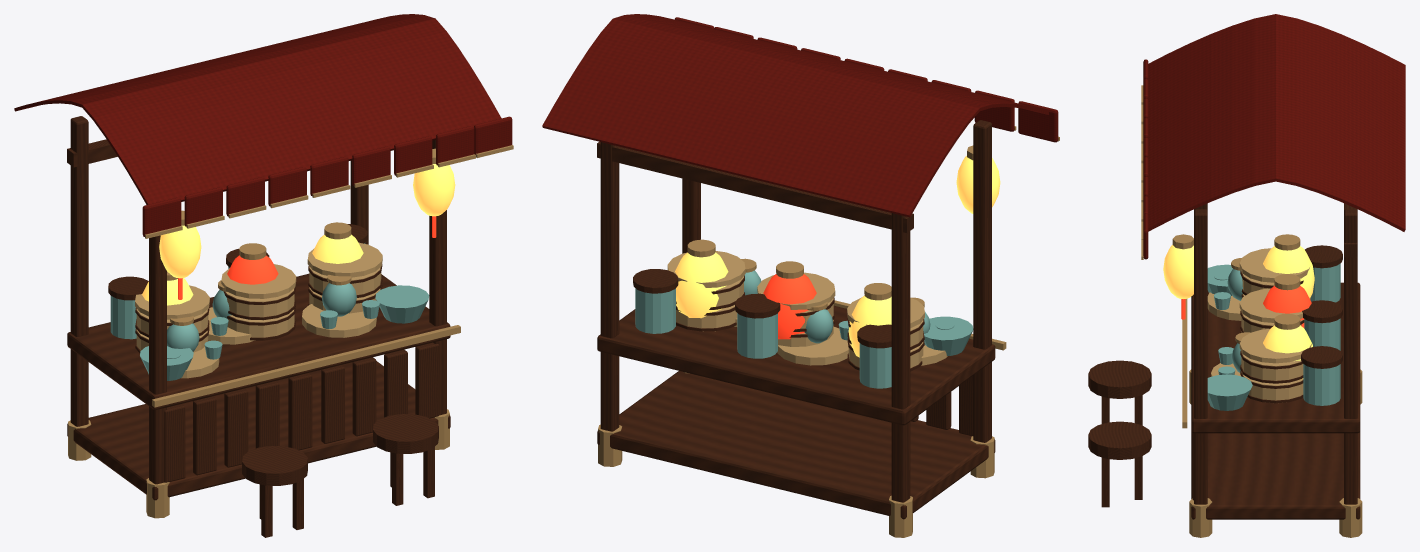
The model's file is night-market-kit-v021.glb.
3 renders of one model, left to right at view 1: azimuth 30°, elevation 25°; view 2: azimuth 150°, elevation 25°; view 3: azimuth 270°, elevation 25°, orthographic. The views are drawn at different scales.
Parts seen in each view (by area): view 1: Market_Food_Market_Canvas_Cinnabar, Market_Food_Market_Walnut, Market_Food_Market_Bamboo, Market_Lantern_Market_Walnut, Market_Food_Market_BrushedBrass, Market_Tea_Market_Celadon, Market_Food_Market_WarmPaper, Market_Tea_Market_Bamboo, Market_Lantern_Market_WarmPaper, Market_Food_Market_Celadon, Market_Lantern_Market_RedPaper, Market_Tea_Market_Walnut (+1 smaller); view 2: Market_Food_Market_Walnut, Market_Food_Market_Canvas_Cinnabar, Market_Tea_Market_Celadon, Market_Food_Market_Bamboo, Market_Lantern_Market_WarmPaper, Market_Tea_Market_Walnut, Market_Food_Market_BrushedBrass, Market_Lantern_Market_RedPaper, Market_Tea_Market_Bamboo, Market_Food_Market_Celadon, Market_Lantern_Market_BrushedBrass, Market_Food_Market_WarmPaper; view 3: Market_Food_Market_Canvas_Cinnabar, Market_Food_Market_Walnut, Market_Lantern_Market_Walnut, Market_Food_Market_Bamboo, Market_Tea_Market_Celadon, Market_Lantern_Market_WarmPaper, Market_Food_Market_BrushedBrass, Market_Tea_Market_Walnut, Market_Food_Market_Celadon, Market_Lantern_Market_BrushedBrass, Market_Lantern_Market_RedPaper, Market_Food_Market_WarmPaper (+1 smaller).
Part boxes in pixels (bbox=[...]): Market_Food_Market_Canvas_Cinnabar: bbox=[14, 14, 512, 236]; Market_Food_Market_Walnut: bbox=[67, 116, 450, 500]; Market_Food_Market_Bamboo: bbox=[135, 242, 382, 352]; Market_Lantern_Market_Walnut: bbox=[242, 414, 438, 537]; Market_Food_Market_BrushedBrass: bbox=[68, 145, 513, 518]; Market_Tea_Market_Celadon: bbox=[110, 243, 379, 359]; Market_Food_Market_WarmPaper: bbox=[159, 164, 452, 278]; Market_Tea_Market_Bamboo: bbox=[181, 304, 376, 378]; Market_Lantern_Market_WarmPaper: bbox=[142, 165, 455, 305]; Market_Food_Market_Celadon: bbox=[140, 285, 429, 380]; Market_Lantern_Market_RedPaper: bbox=[182, 216, 436, 289]; Market_Tea_Market_Walnut: bbox=[108, 224, 367, 300]; Market_Food_Market_Walnut: bbox=[597, 120, 995, 519]; Market_Food_Market_Canvas_Cinnabar: bbox=[542, 14, 1058, 217]; Market_Tea_Market_Celadon: bbox=[635, 270, 954, 388]; Market_Food_Market_Bamboo: bbox=[667, 251, 924, 368]; Market_Lantern_Market_WarmPaper: bbox=[675, 156, 996, 357]; Market_Tea_Market_Walnut: bbox=[633, 269, 891, 348]; Market_Food_Market_BrushedBrass: bbox=[598, 126, 1059, 537]; Market_Lantern_Market_RedPaper: bbox=[763, 274, 816, 339]; Market_Tea_Market_Bamboo: bbox=[734, 318, 947, 365]; Market_Food_Market_Celadon: bbox=[924, 316, 973, 355]; Market_Lantern_Market_BrushedBrass: bbox=[687, 239, 891, 300]; Market_Food_Market_WarmPaper: bbox=[956, 157, 1000, 210]; Market_Food_Market_Canvas_Cinnabar: bbox=[1143, 14, 1405, 259]; Market_Food_Market_Walnut: bbox=[1191, 203, 1360, 519]; Market_Lantern_Market_Walnut: bbox=[1088, 360, 1151, 507]; Market_Food_Market_Bamboo: bbox=[1239, 248, 1311, 400]; Market_Tea_Market_Celadon: bbox=[1214, 263, 1340, 405]; Market_Lantern_Market_WarmPaper: bbox=[1163, 246, 1314, 379]; Market_Food_Market_BrushedBrass: bbox=[1141, 85, 1362, 537]; Market_Tea_Market_Walnut: bbox=[1301, 245, 1342, 368]; Market_Food_Market_Celadon: bbox=[1207, 264, 1252, 410]; Market_Lantern_Market_BrushedBrass: bbox=[1274, 234, 1300, 329]; Market_Lantern_Market_RedPaper: bbox=[1184, 285, 1311, 327]; Market_Food_Market_WarmPaper: bbox=[1163, 245, 1193, 294].
Size of the model in its own units: 2.82 by 2.84 by 2.2.
9 materials, 4 textured.
